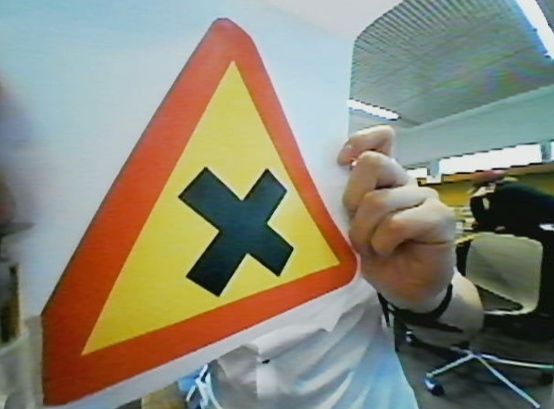junction: (44, 2, 387, 407)
